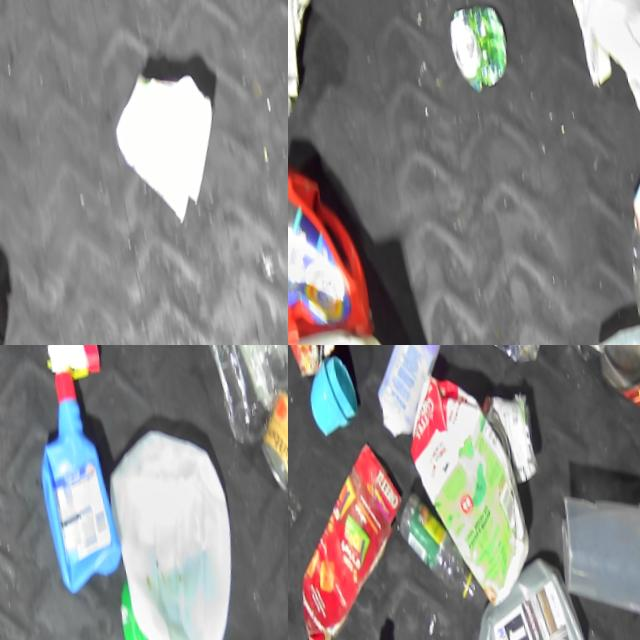can: (442, 5, 509, 98), (247, 397, 288, 506), (471, 345, 545, 377)
milk_jug: (95, 426, 240, 640)
non_white_jug: (24, 383, 112, 602), (288, 154, 365, 345), (440, 558, 579, 640), (577, 345, 640, 458)
